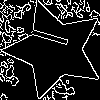I: (30, 25, 79, 52)
